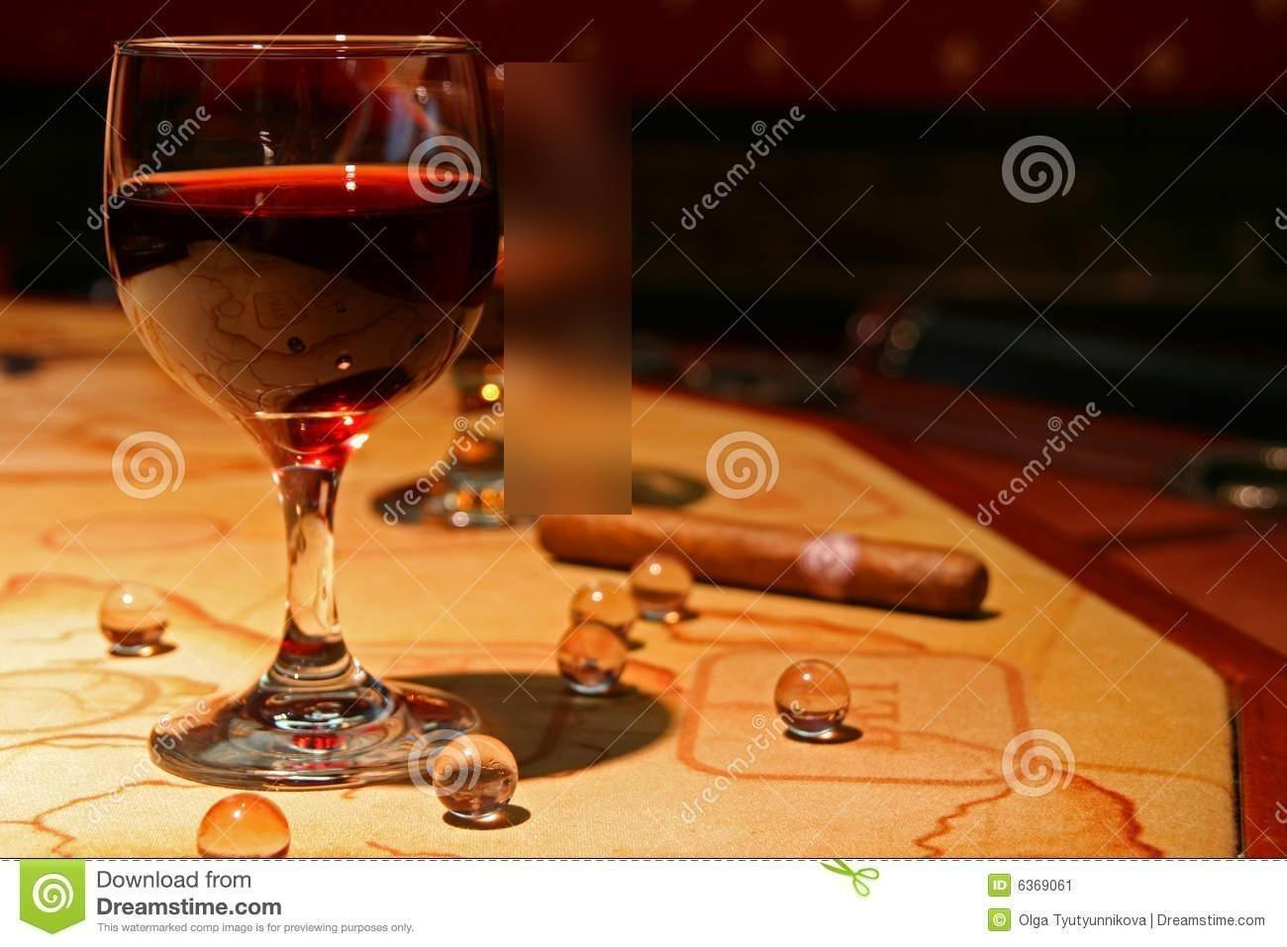glass-wine: (99, 29, 505, 786)
